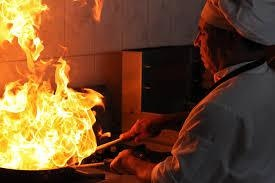fire: (0, 0, 104, 174)
